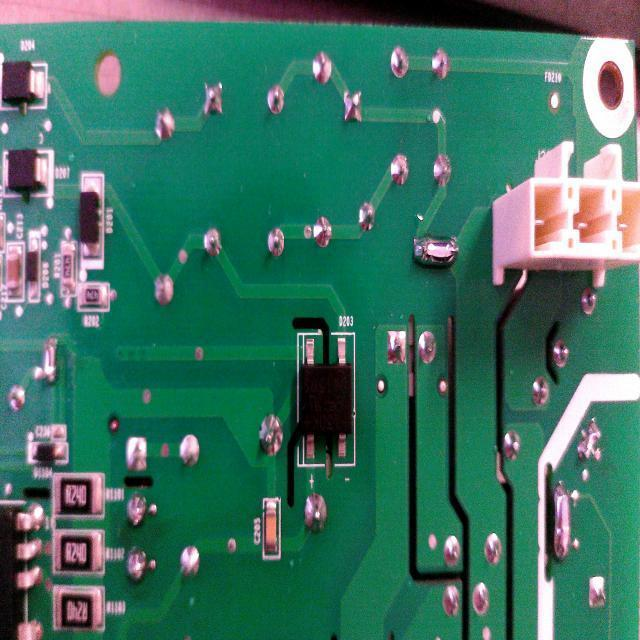Soldering shorted: (412, 227, 459, 280), (551, 476, 573, 567), (576, 418, 603, 466), (40, 334, 60, 392)
